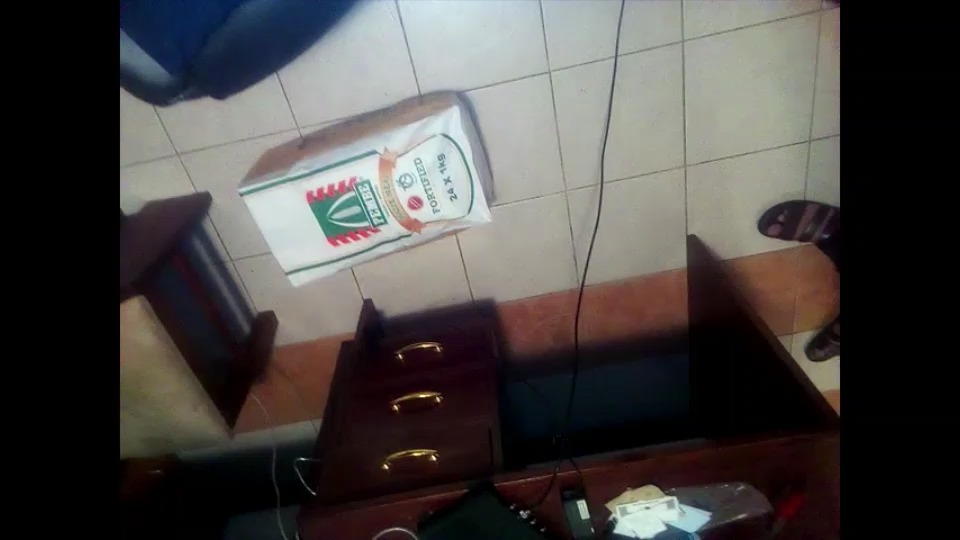maize_flour_green_label: (236, 93, 486, 281)
